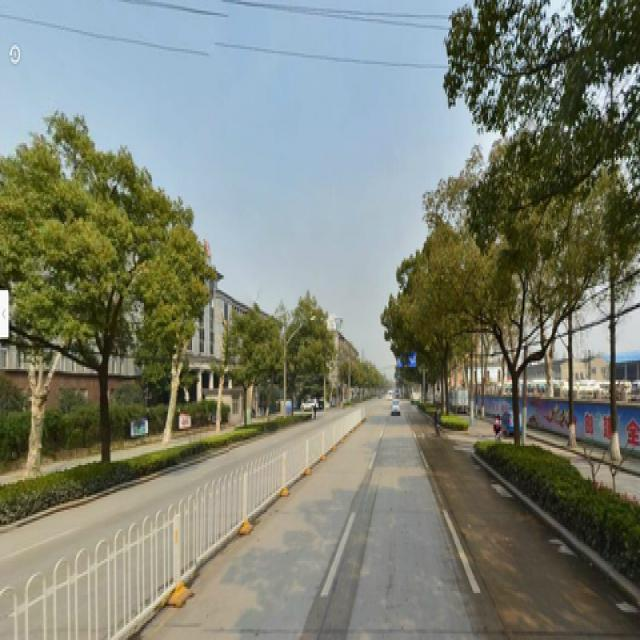cinn: (7, 145, 189, 435)
